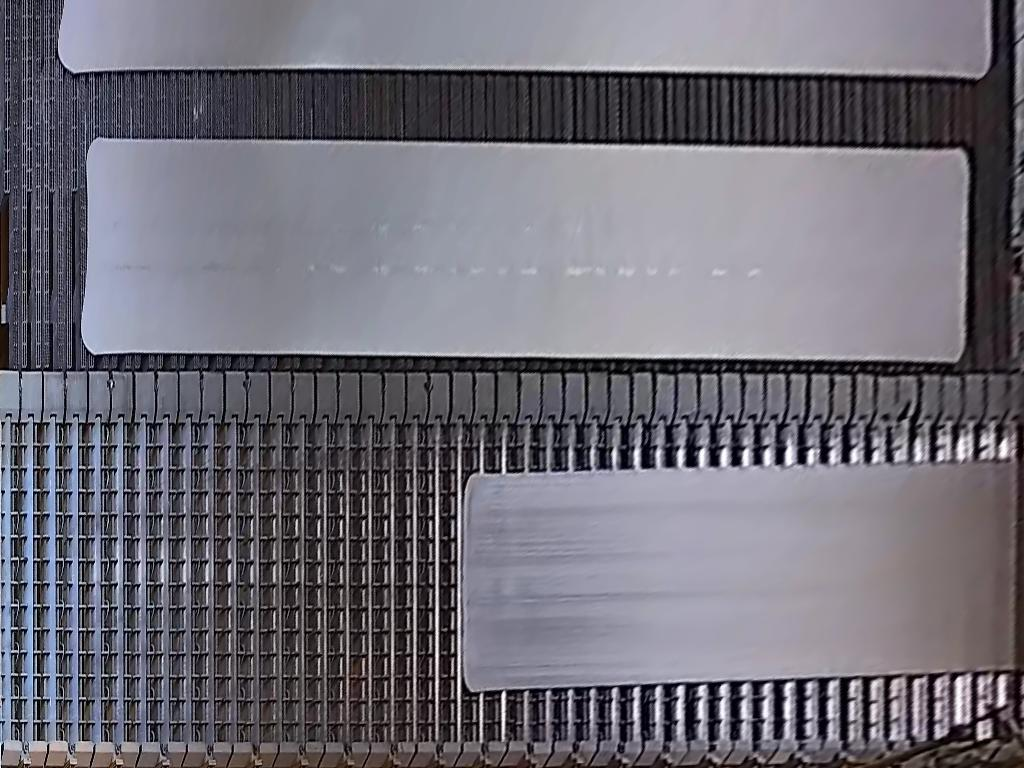steel: (75, 134, 968, 361), (456, 462, 1024, 691), (56, 1, 993, 79)
